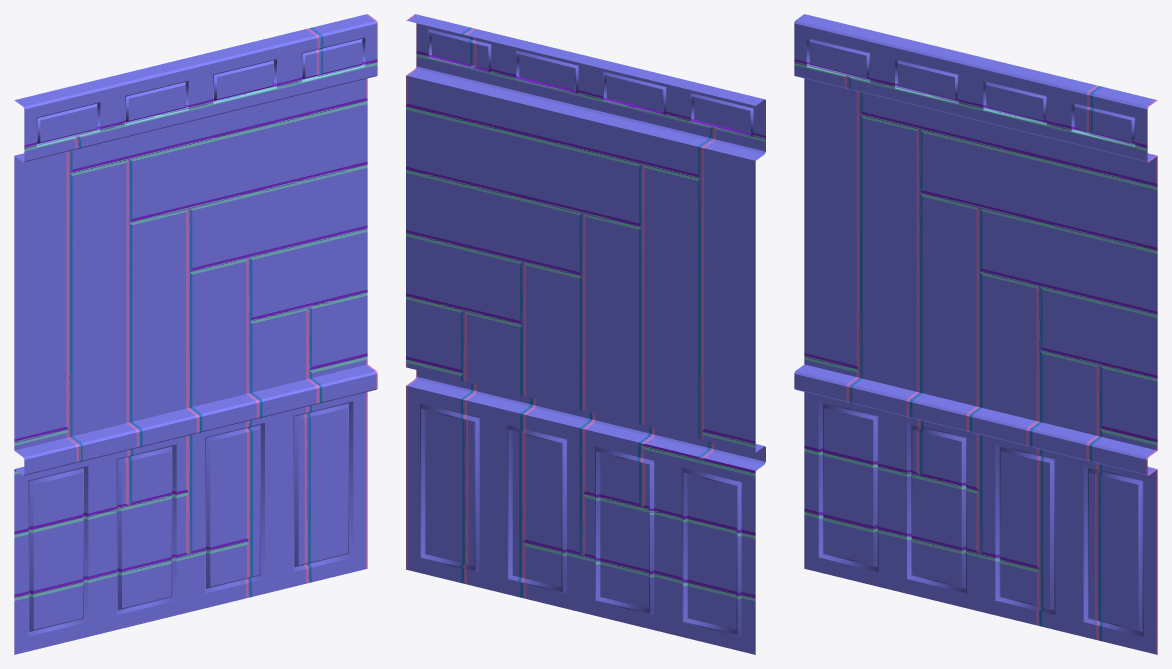
Rendered from Foyer Walls.fbx.
The picture shows the model from 3 angles, left to right: view 1: azimuth 30°, elevation 25°; view 2: azimuth 150°, elevation 25°; view 3: azimuth 330°, elevation 25°; orthographic projection.
Visible parts, largest first — view 1: Normal_Wall1; view 2: Normal_Wall1; view 3: Normal_Wall1.
Boxes of the visible parts, box(x1,y1,x2,y2) form: Normal_Wall1: box(14, 14, 377, 654); Normal_Wall1: box(406, 14, 765, 654); Normal_Wall1: box(794, 14, 1157, 654).
Bounding box in the file's own units: 200 × 300 × 11.67.
